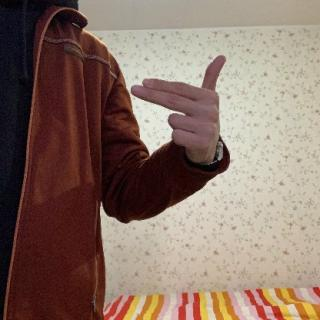GHAYN: (128, 50, 229, 164)
